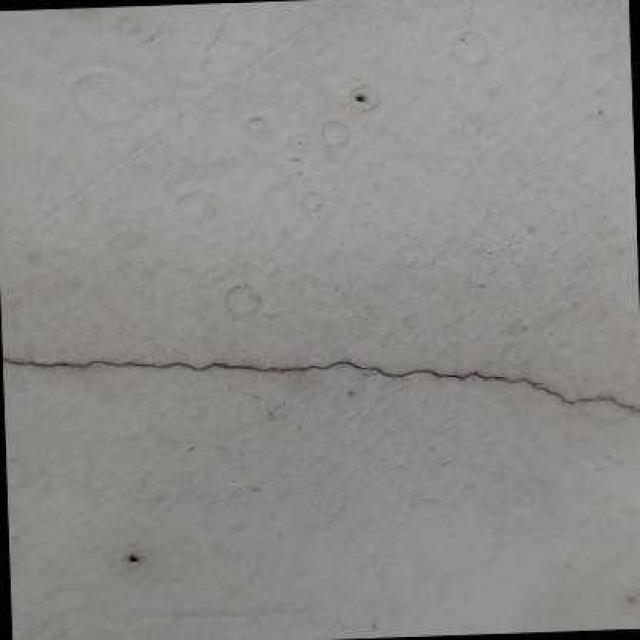D00: (276, 362, 640, 411), (1, 358, 278, 371)
